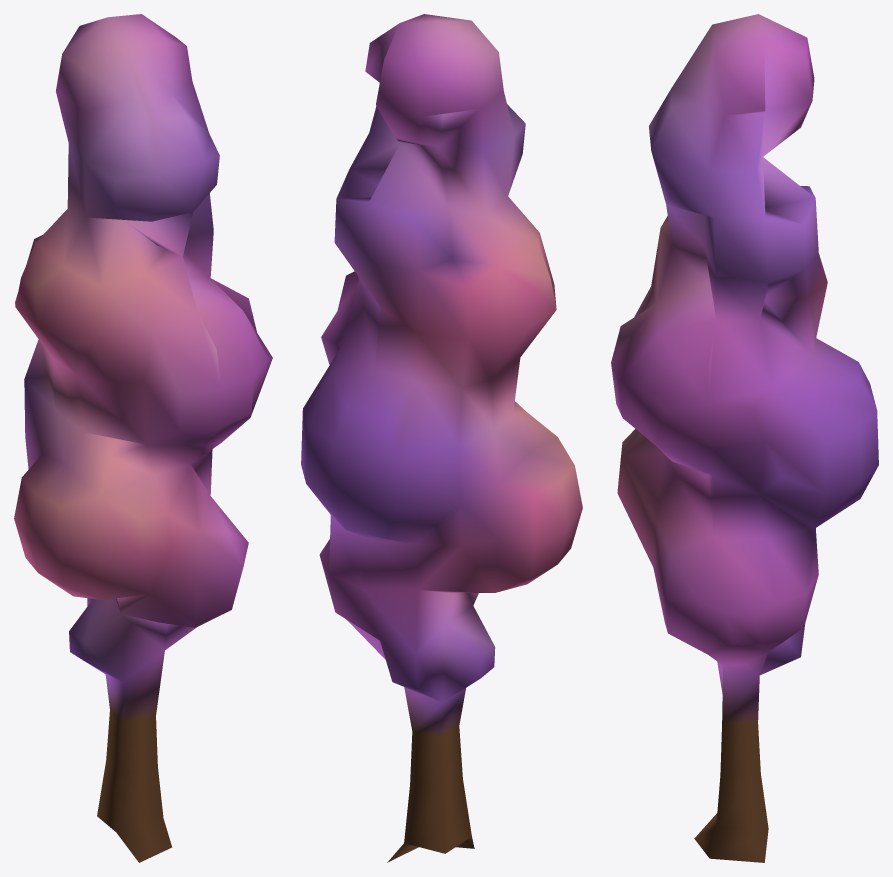
Rendered from tall-tree-103-lod3.obj.
The picture shows the model from 3 angles, left to right: view 1: azimuth 30°, elevation 25°; view 2: azimuth 150°, elevation 25°; view 3: azimuth 270°, elevation 25°; orthographic projection. The views are drawn at different scales.
Visible parts, largest first — view 1: simplified; view 2: simplified; view 3: simplified.
Part boxes in pixels (x1=…): simplified: x1=14, y1=14, x2=272, y2=862; simplified: x1=301, y1=14, x2=582, y2=862; simplified: x1=611, y1=14, x2=878, y2=862.
Bounding box in the file's own units: 203 × 708 × 208.
